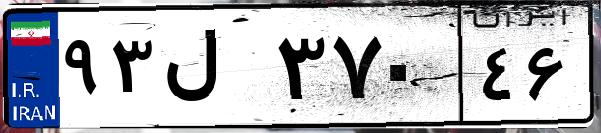0: (385, 28, 445, 110)
3: (270, 28, 330, 110), (110, 28, 158, 98)
4: (475, 38, 525, 113)
6: (525, 38, 570, 115)
7: (330, 28, 385, 110)
9: (57, 26, 110, 100)
ل: (158, 20, 270, 120)
